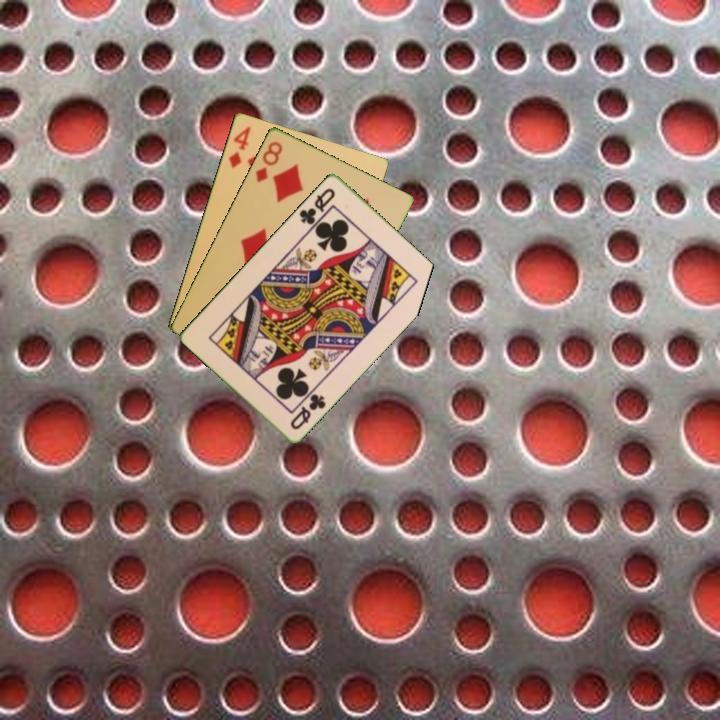4d: (225, 123, 253, 171)
8d: (252, 137, 285, 186)
Qc: (295, 184, 338, 227), (287, 390, 329, 433)
